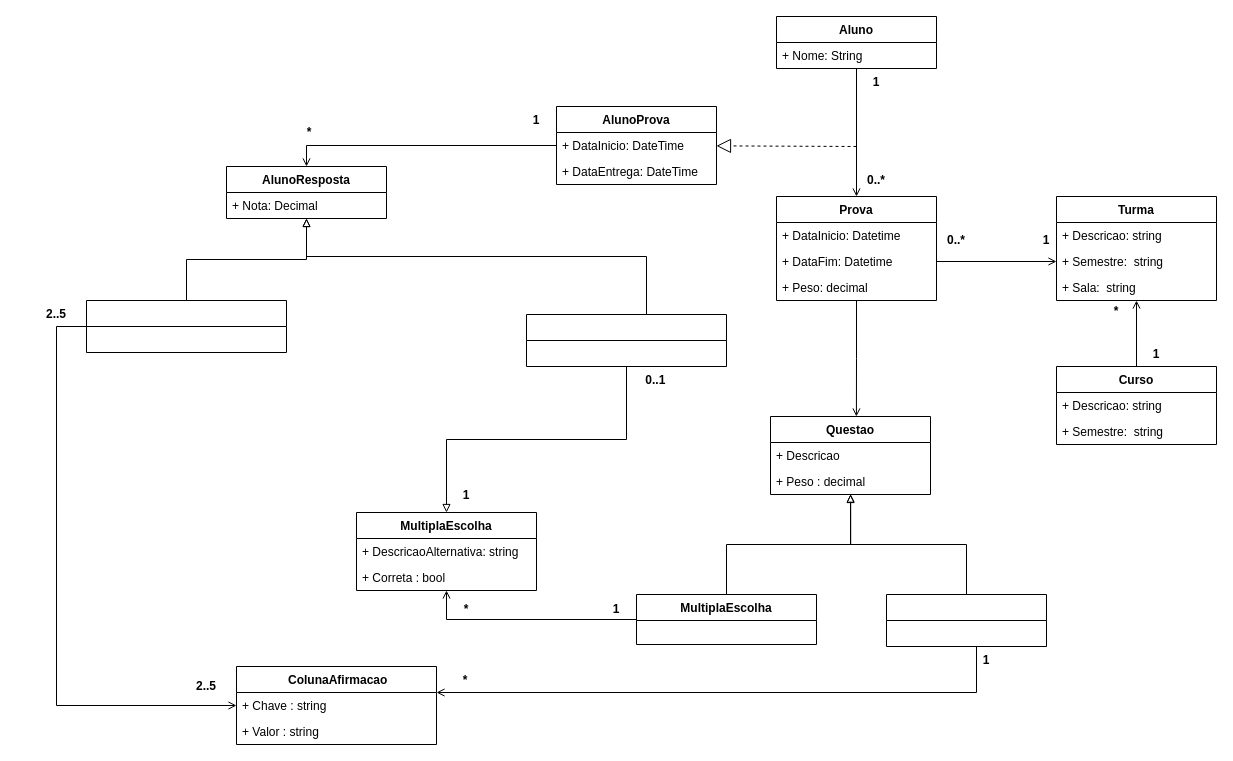
Some shapes in this 1233 by 761 pixel diagram are drawn without their labels. The centre of each missing label's shape, as x and y in pixels:
"AlternativaRelacionalResposta" belongs at point 186,326.
"MultiplaEscolhaResposta" belongs at point 626,340.
"RelacaoColuna" belongs at point 966,620.
